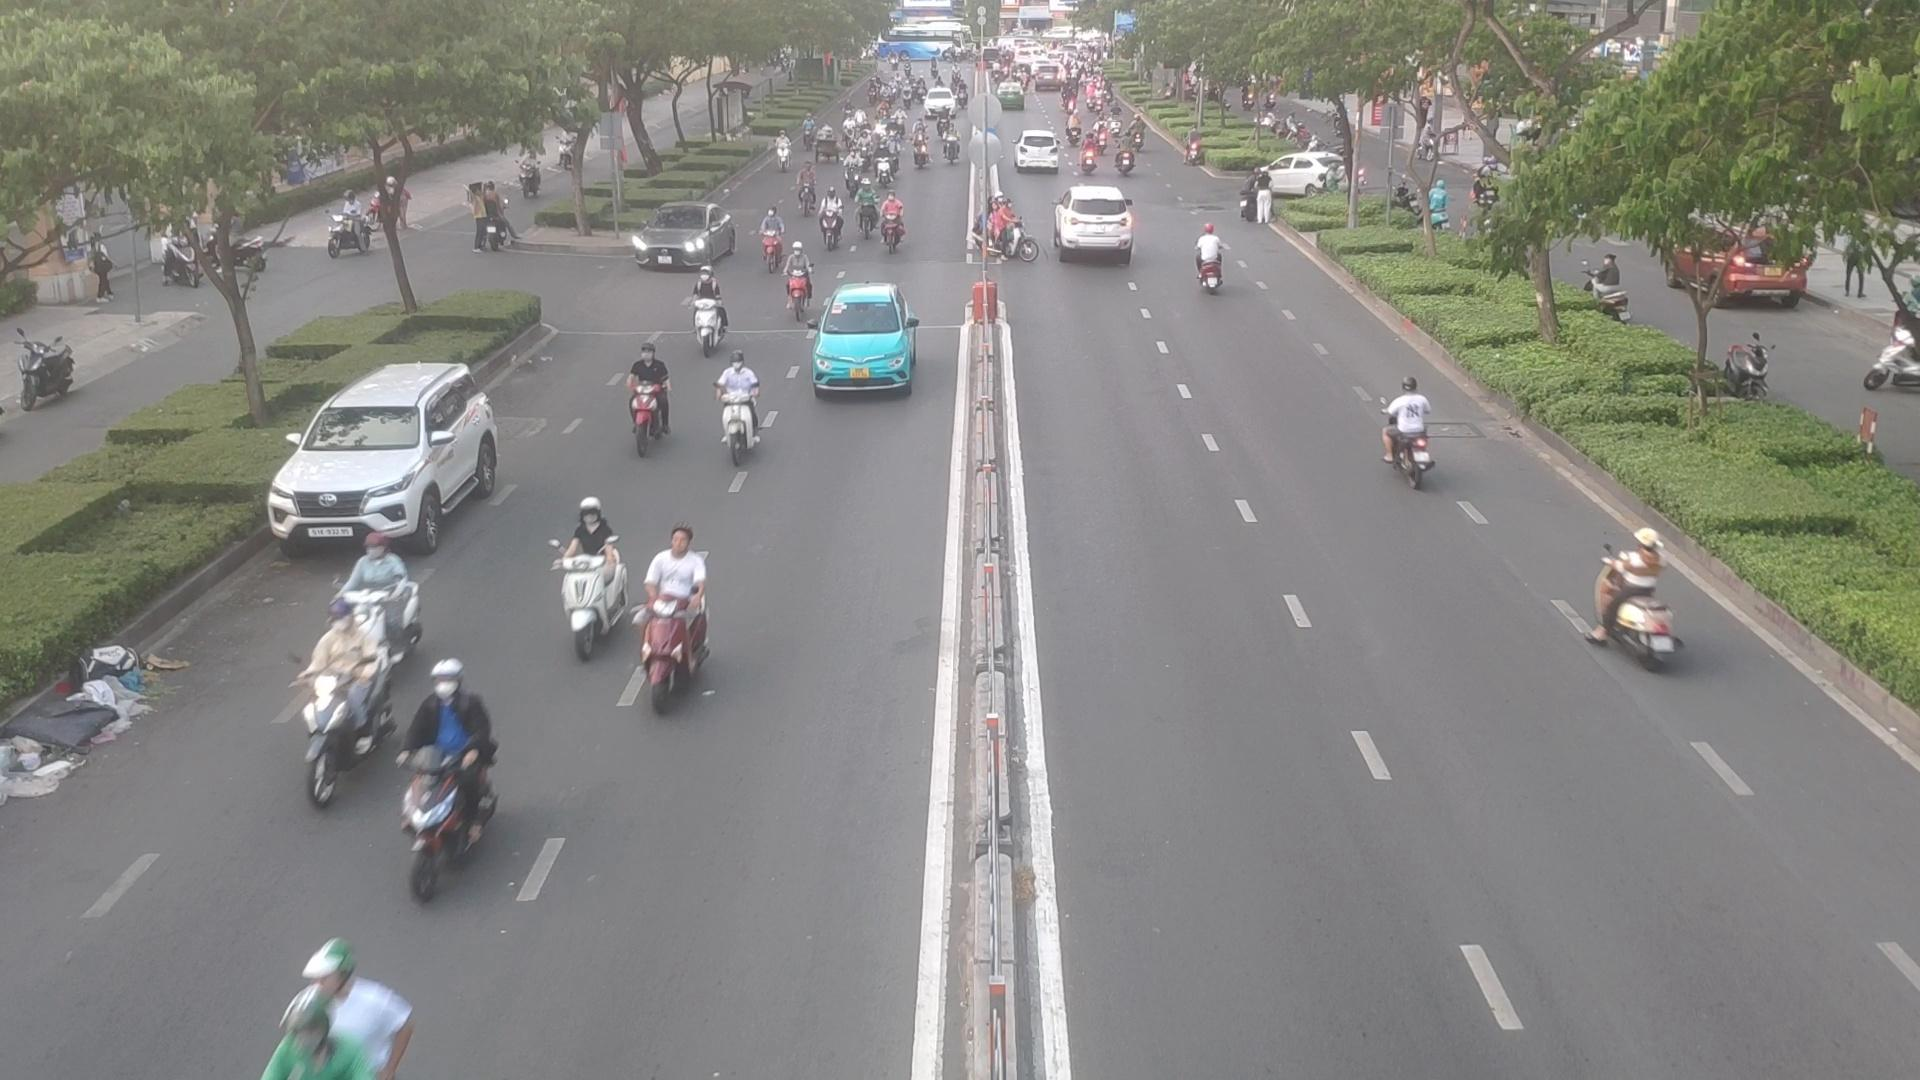car: (265, 363, 505, 556), (808, 280, 914, 396), (626, 203, 738, 270), (1056, 185, 1143, 264), (1011, 133, 1063, 173)
motorbike: (402, 671, 524, 899), (287, 605, 385, 815), (626, 514, 723, 702), (1588, 527, 1685, 673), (541, 493, 622, 665), (340, 531, 419, 655), (1379, 357, 1435, 502), (687, 260, 738, 364), (723, 353, 762, 469), (624, 340, 659, 458), (989, 196, 1040, 266), (756, 204, 790, 281), (785, 229, 812, 316), (1191, 220, 1218, 285), (816, 190, 845, 243), (795, 165, 822, 218), (880, 190, 905, 245), (769, 127, 795, 171), (1079, 129, 1101, 179), (858, 181, 878, 237), (873, 140, 891, 185), (855, 135, 872, 174), (1118, 135, 1134, 177), (844, 152, 857, 196), (889, 138, 903, 171)
